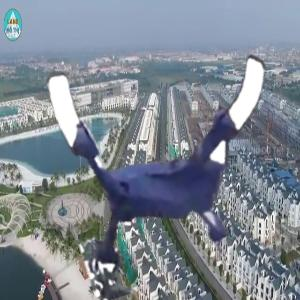drone: (55, 38, 293, 276)
